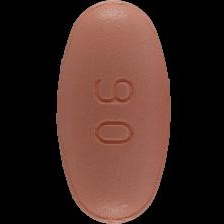31722-538: (0, 0, 224, 224)
